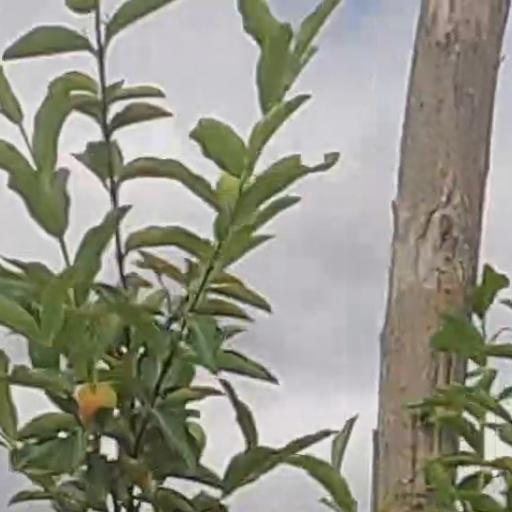acerola_vermelha: (78, 386, 115, 409)
